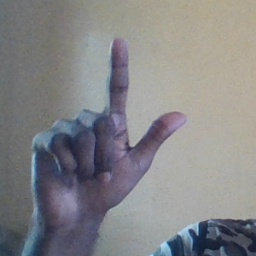L: (27, 35, 188, 221)
